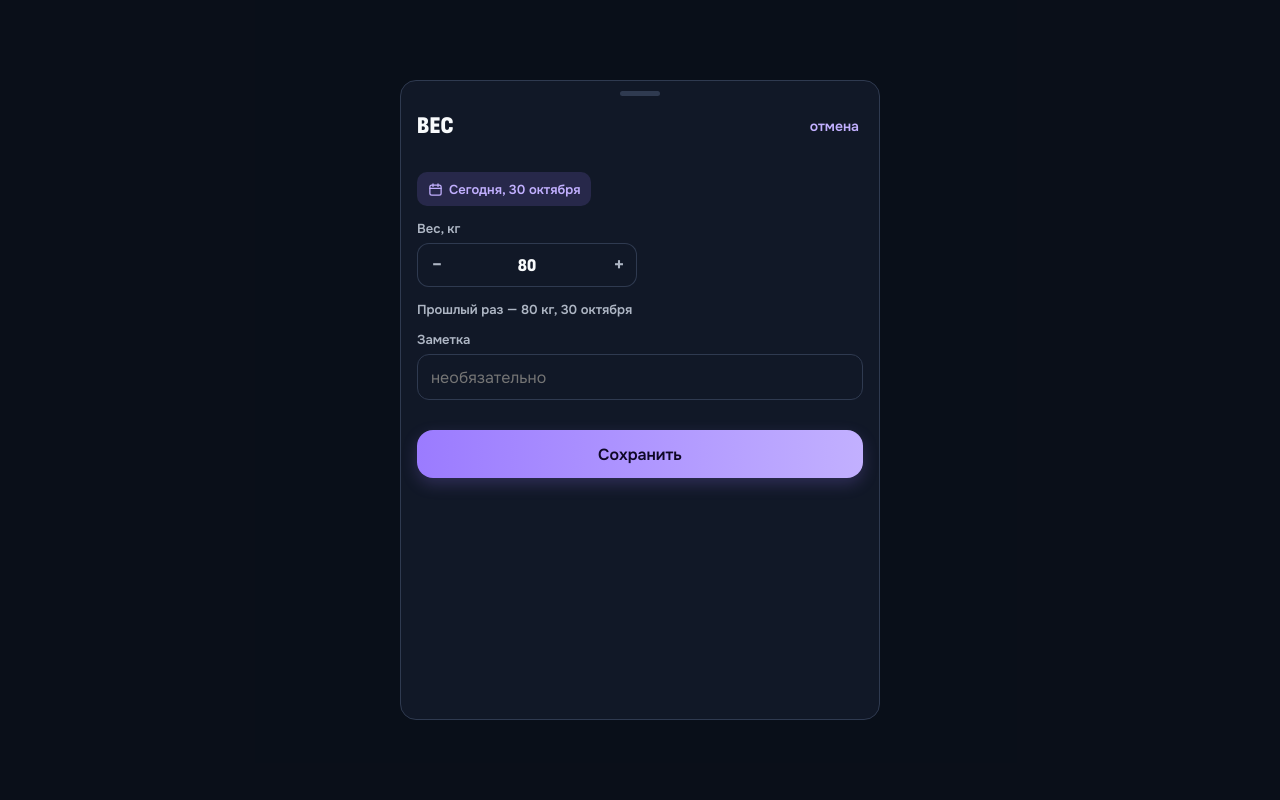
Scenario: BodyEntrySheet — вес › «−» с пустого поля — от прошлого веса; «Прошлый раз — …»
Expected: the text "Прошлый раз — 80 кг, 30 октября" is shown, left=417, top=301, right=632, bottom=318
Clear the field labelled "Вес, кг" at {"x": 527, "y": 265}, box left=455, top=243, right=599, bottom=287
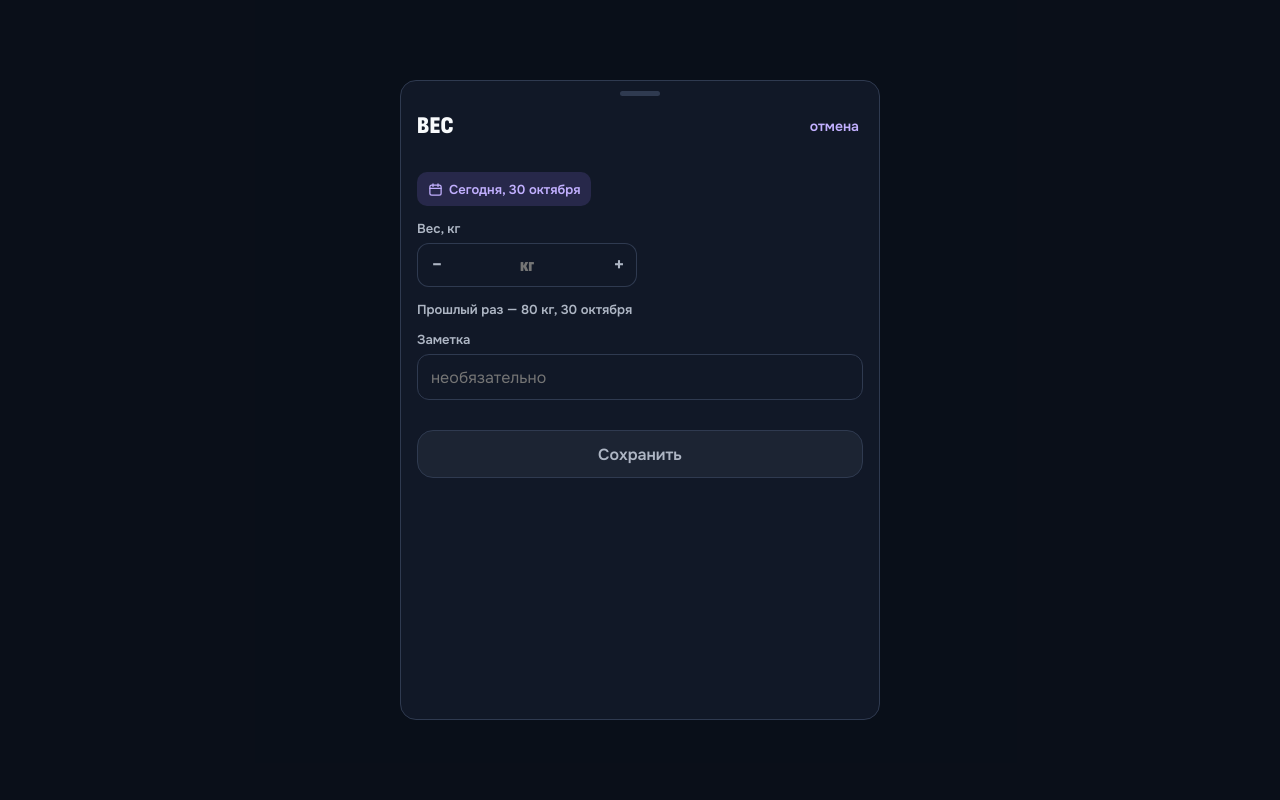
Click the button named "Вес меньше на 0.1".
click(437, 265)  # box left=417, top=243, right=457, bottom=287
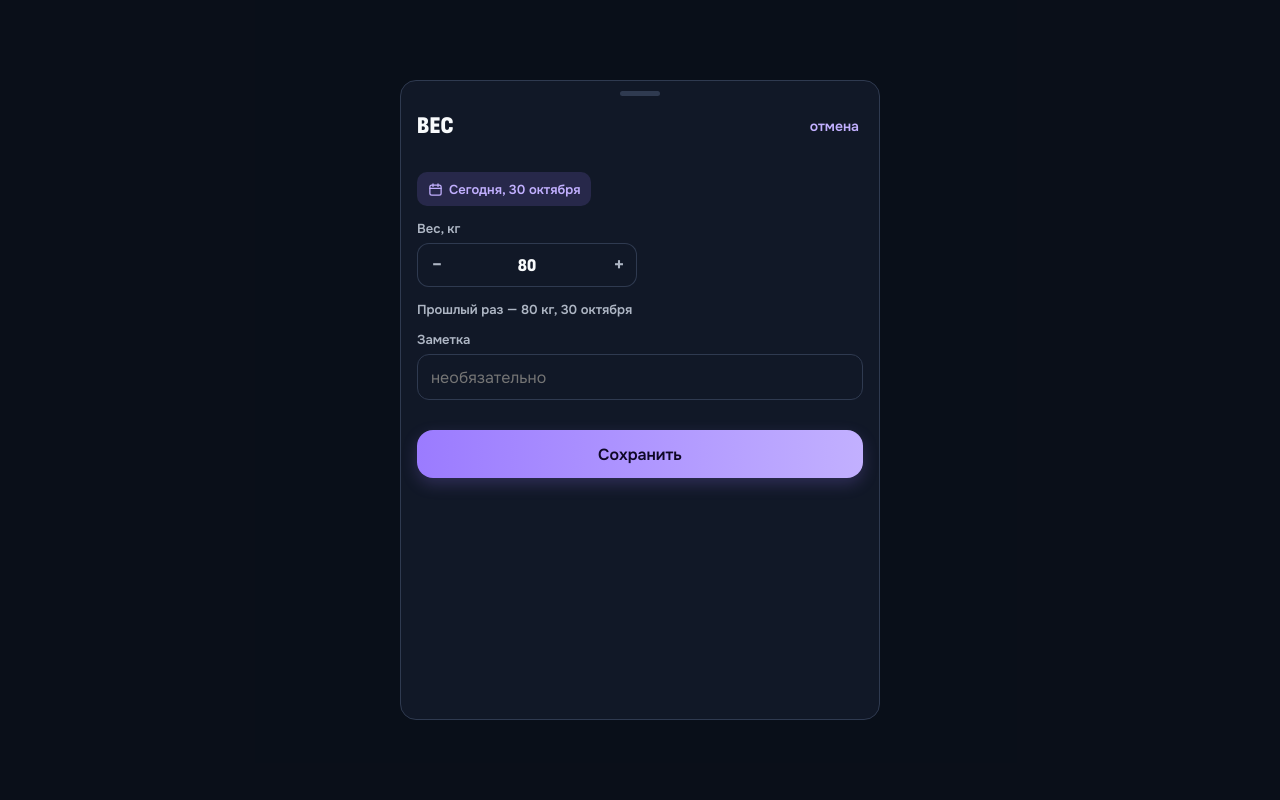
Now the field labelled "Вес, кг" holds "80", box left=455, top=243, right=599, bottom=287
Click the button named "Вес меньше на 0.1".
click(437, 265)  # box left=417, top=243, right=457, bottom=287
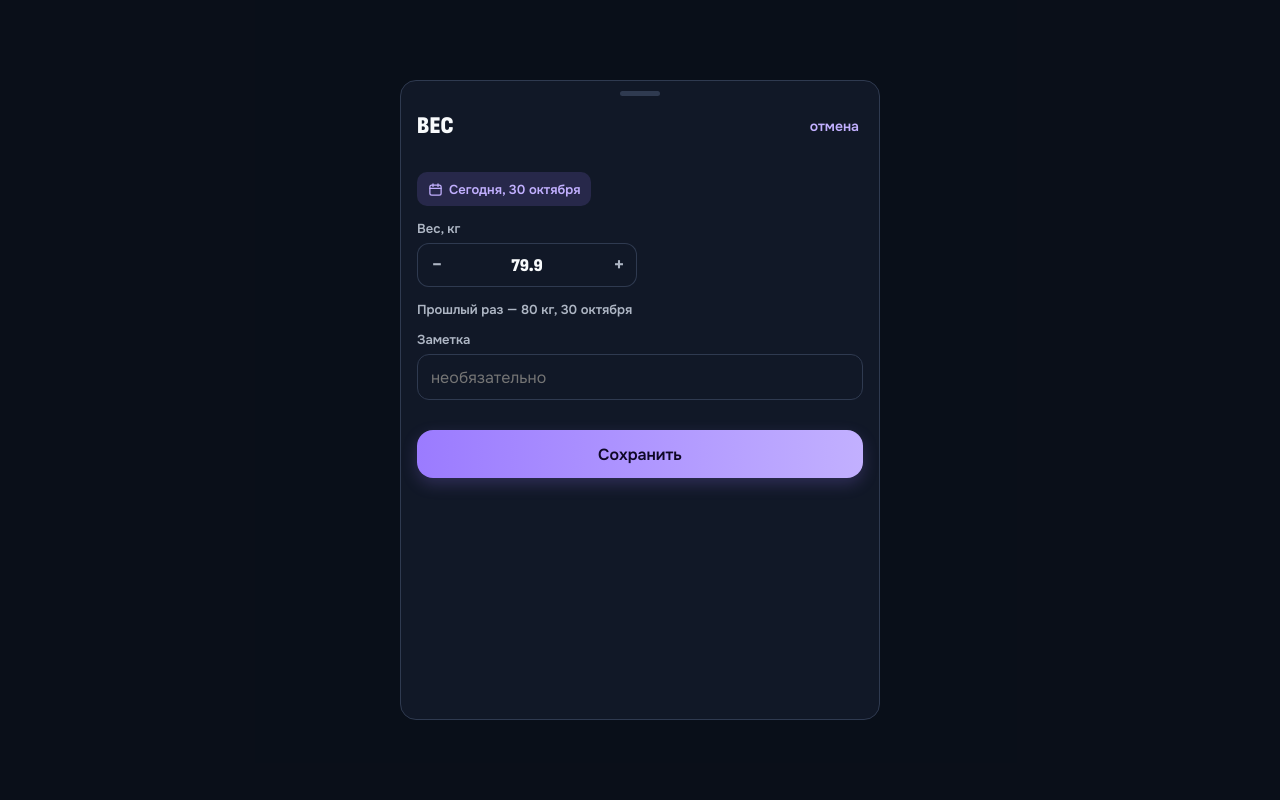
Now the field labelled "Вес, кг" holds "79.9", box left=455, top=243, right=599, bottom=287
